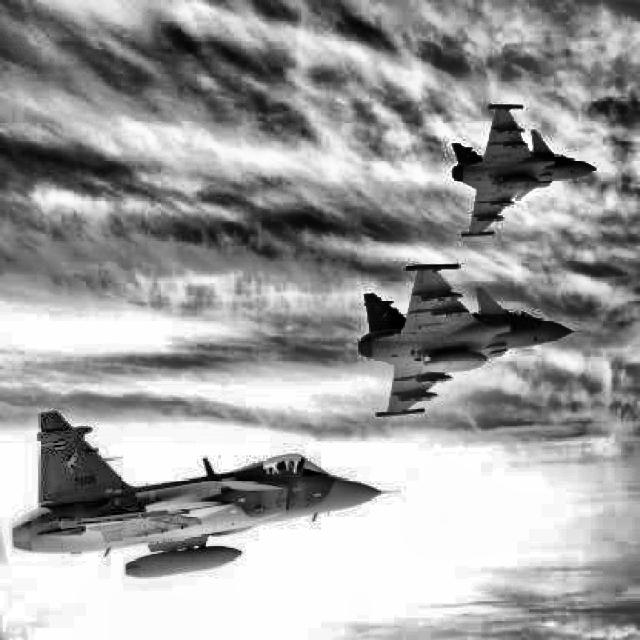JAS39: (12, 411, 400, 578), (359, 263, 583, 417), (452, 105, 603, 237)
